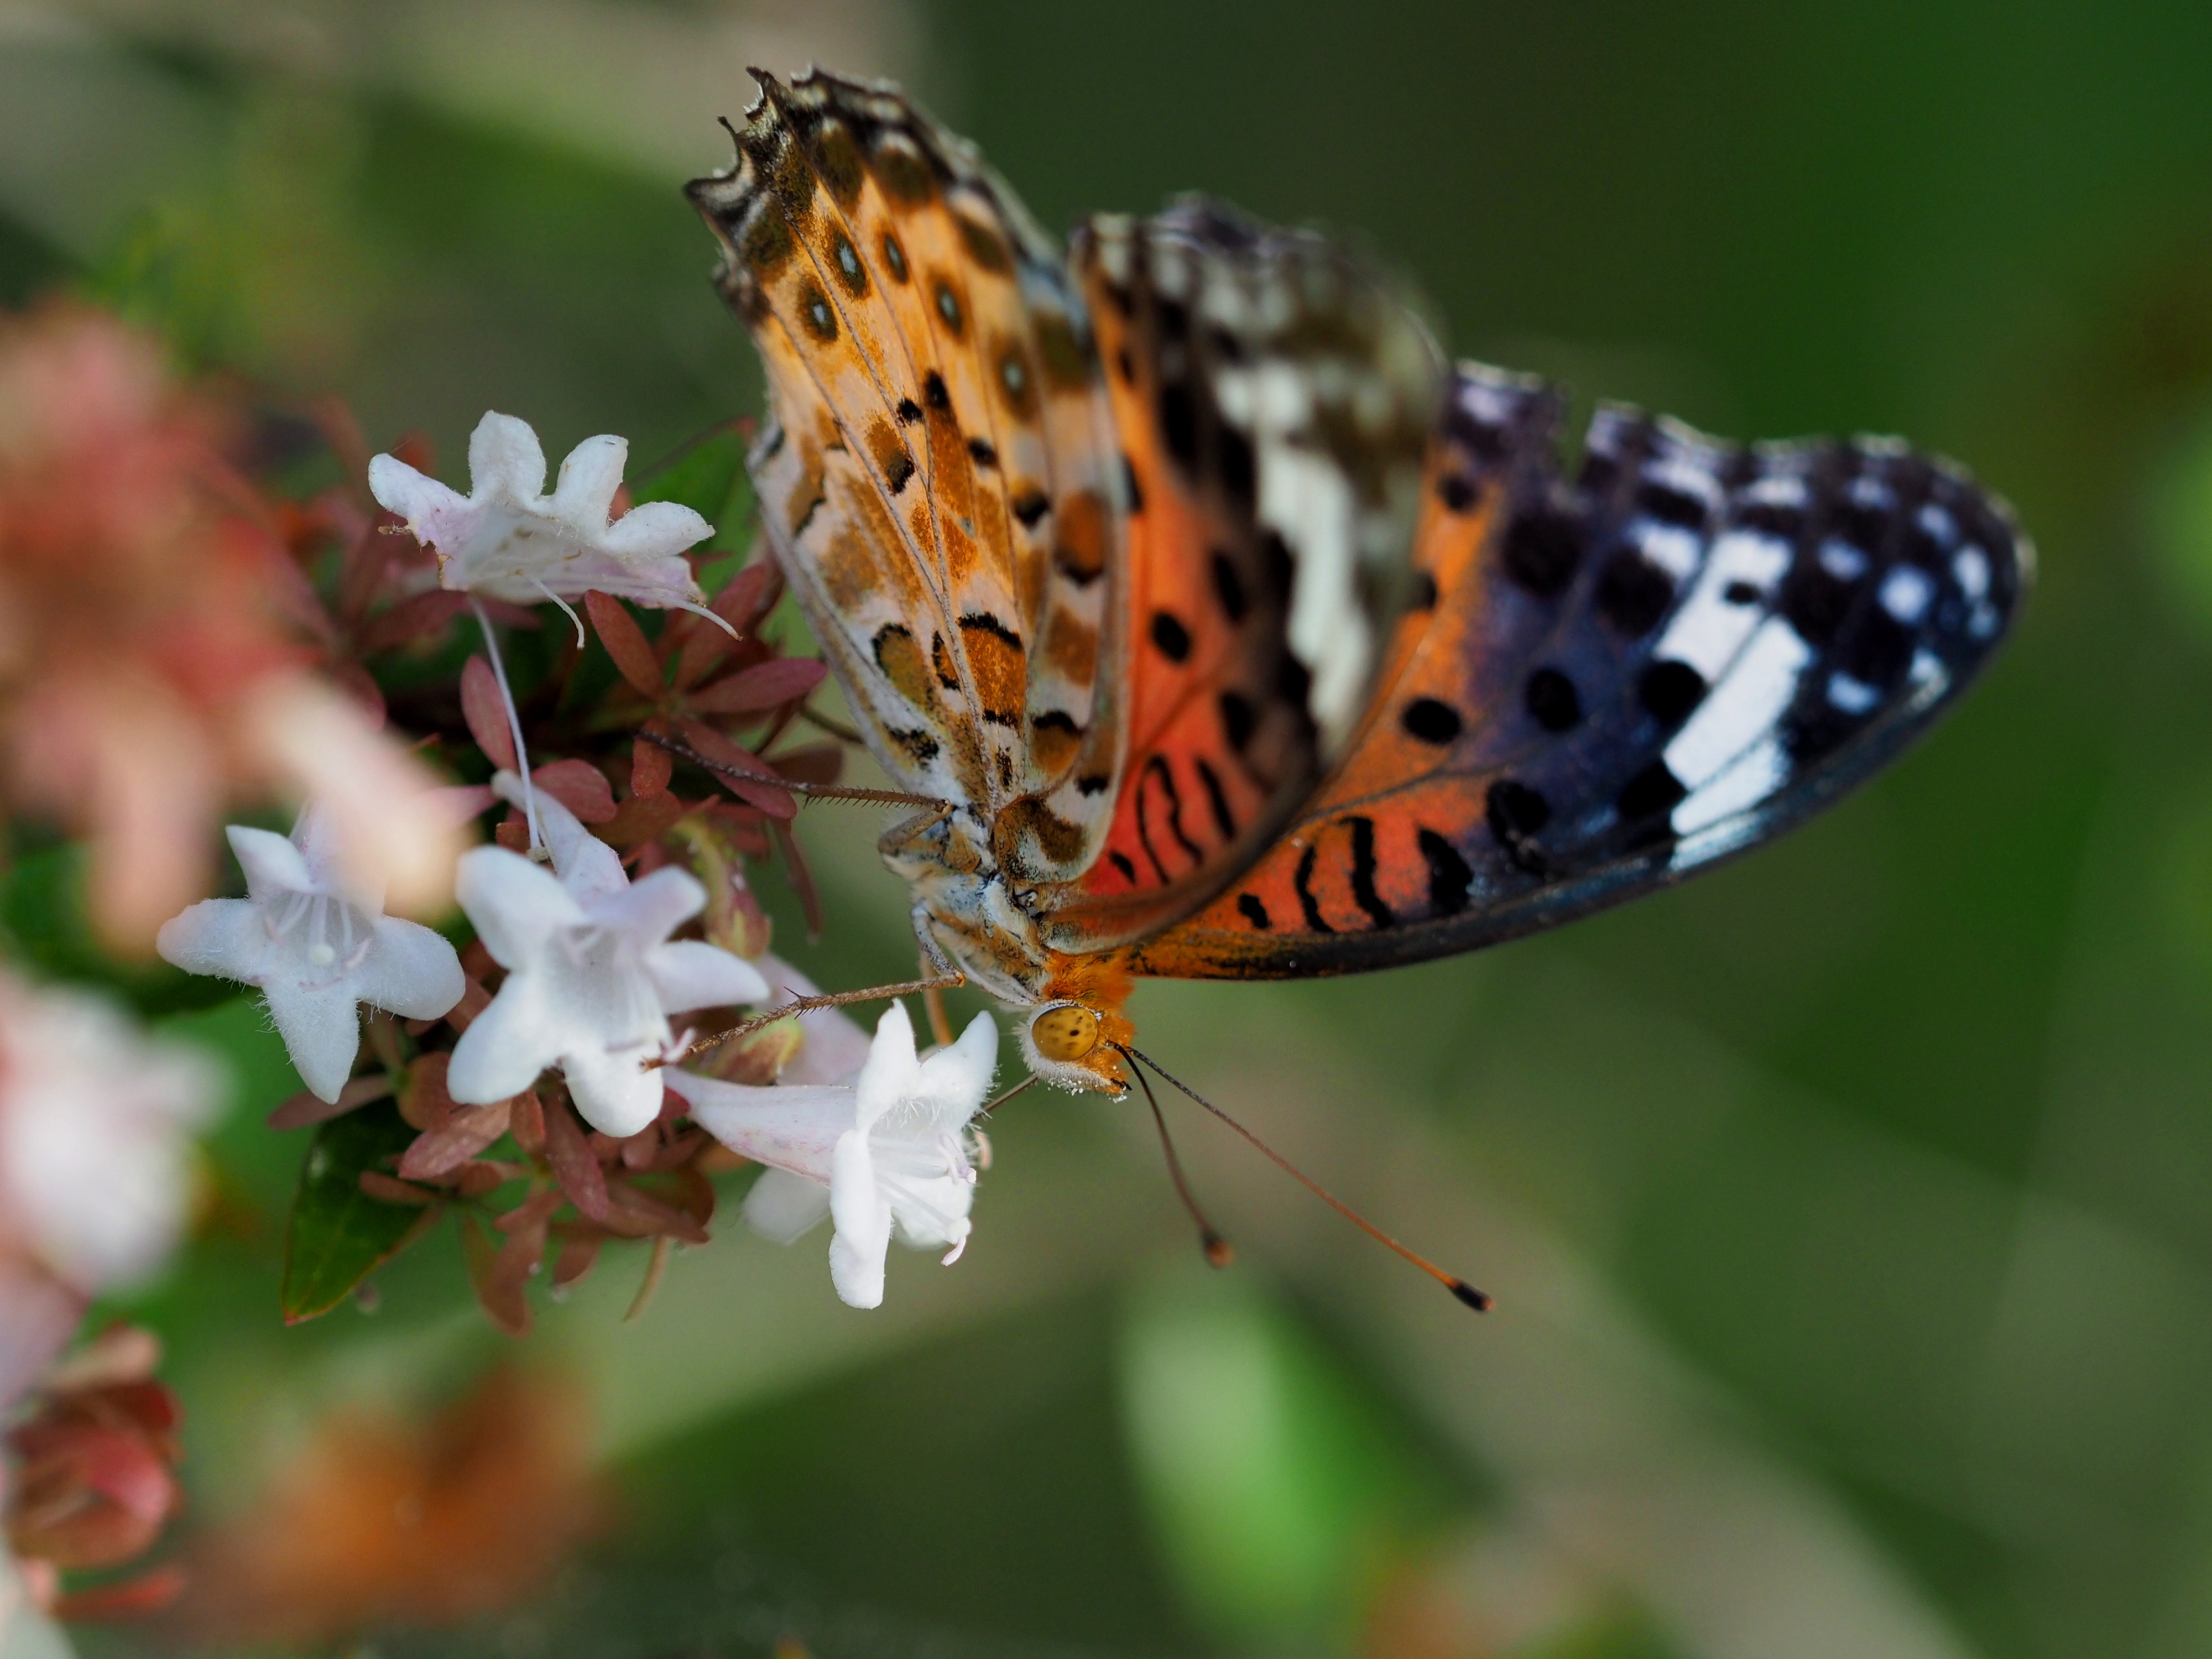Argyreus hyperbius: (644, 52, 2055, 1354)
butterfly: (646, 52, 2057, 1354)
